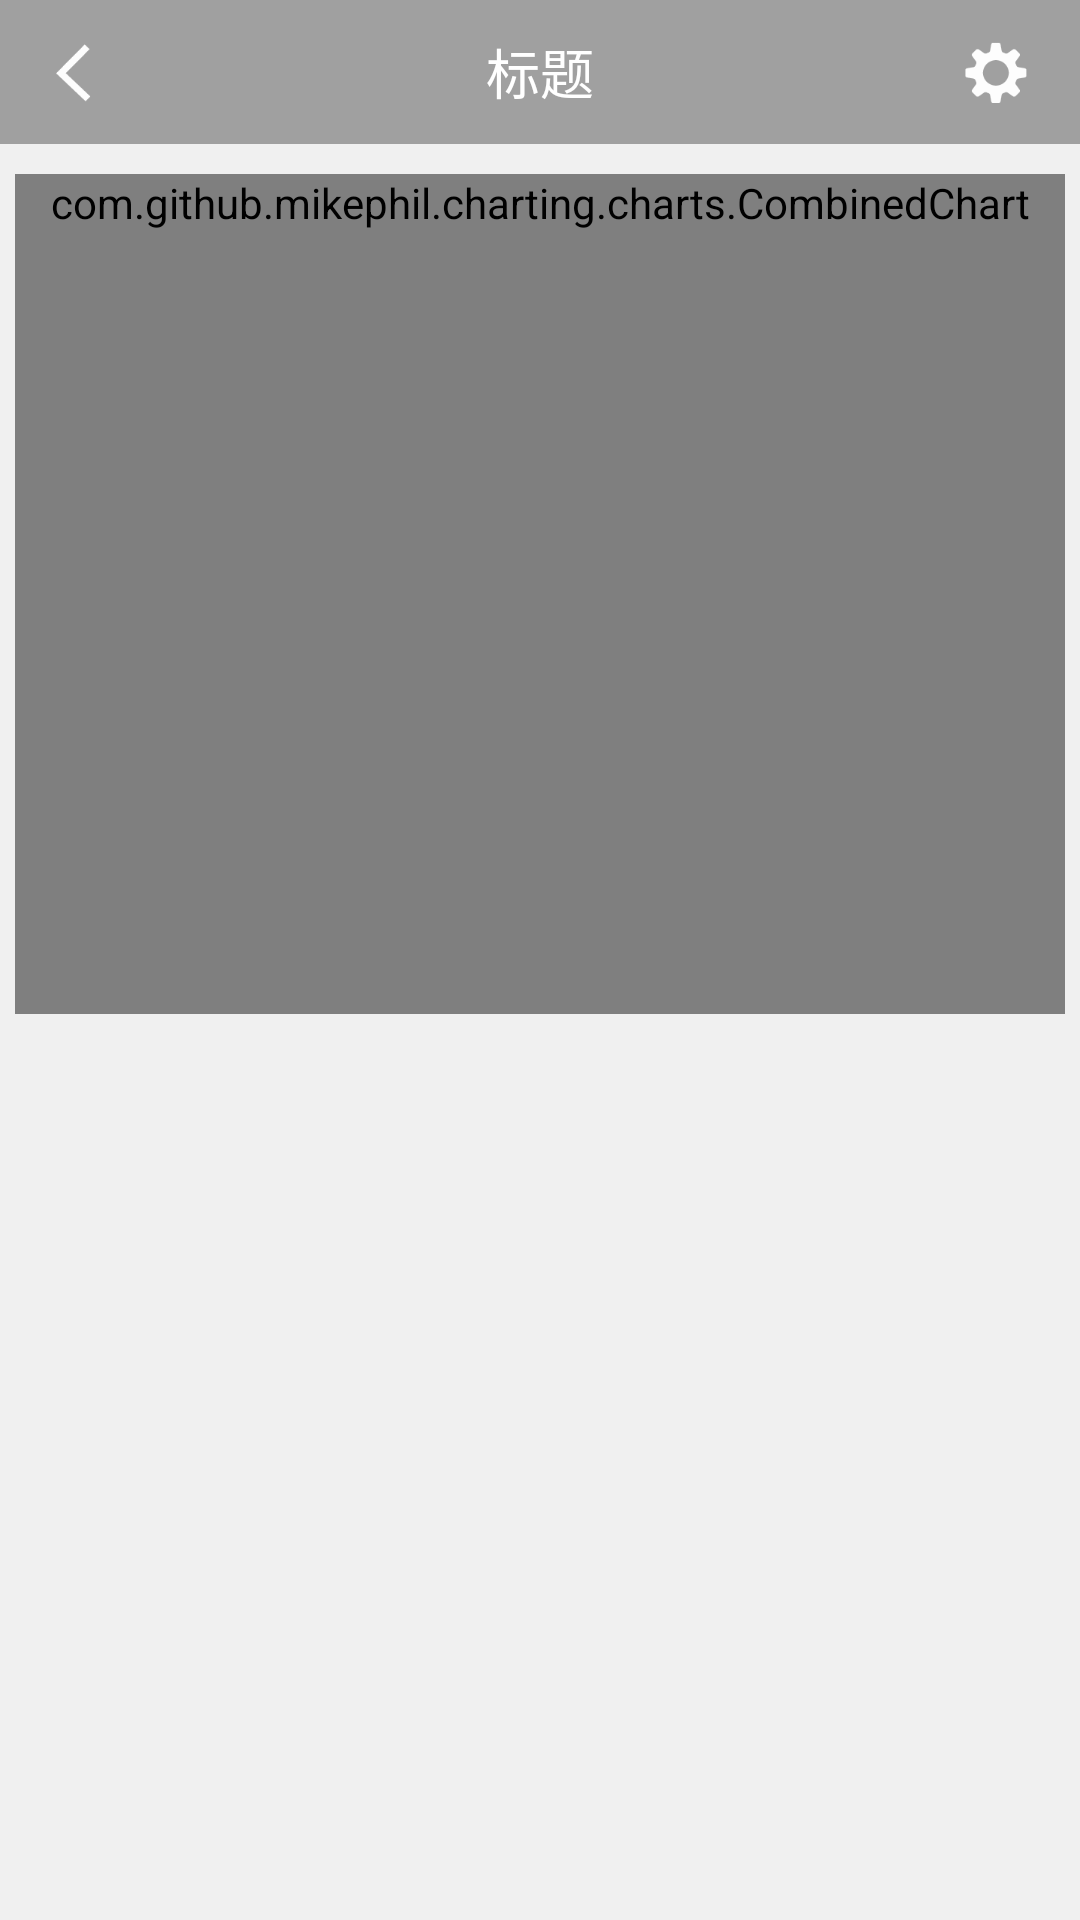

Named icons in this screenshot (1080w x 1920h) and their centers, [x,y]:
back: [73,72]
